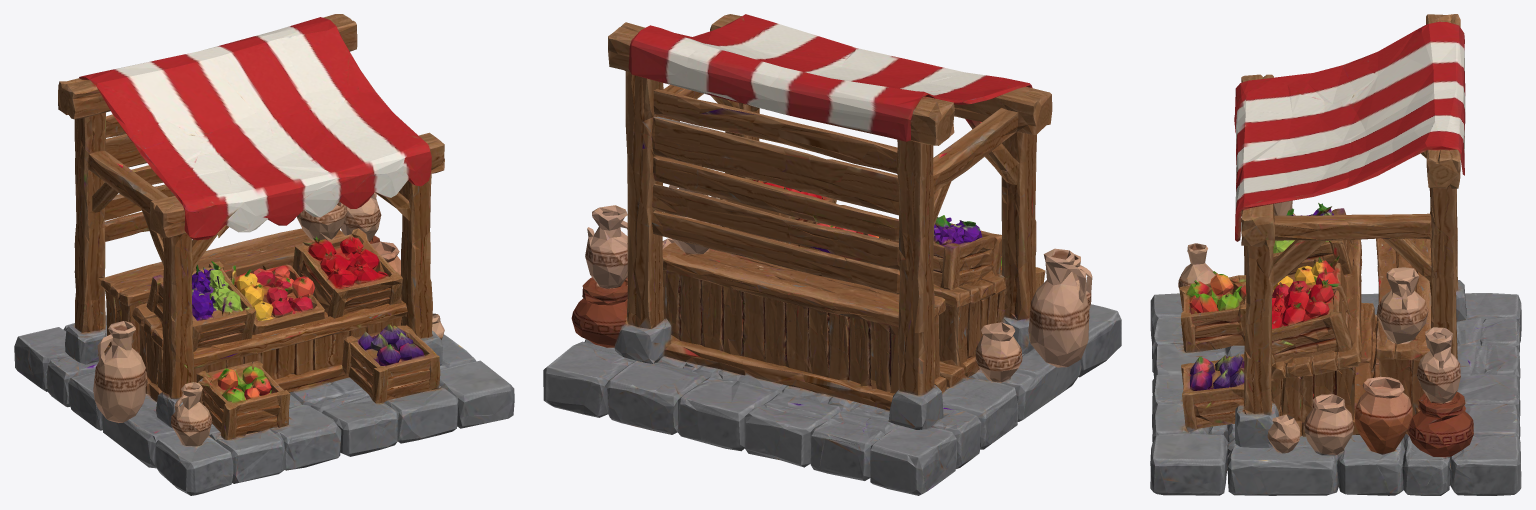
Rendered from stall.glb.
3 renders of one model, left to right at view 1: azimuth 30°, elevation 25°; view 2: azimuth 150°, elevation 25°; view 3: azimuth 270°, elevation 25°, orthographic. The views are drawn at different scales.
Size of the model in its own units: 1.9 by 1.55 by 1.6.
Materials: 1 (1 with a texture image).
